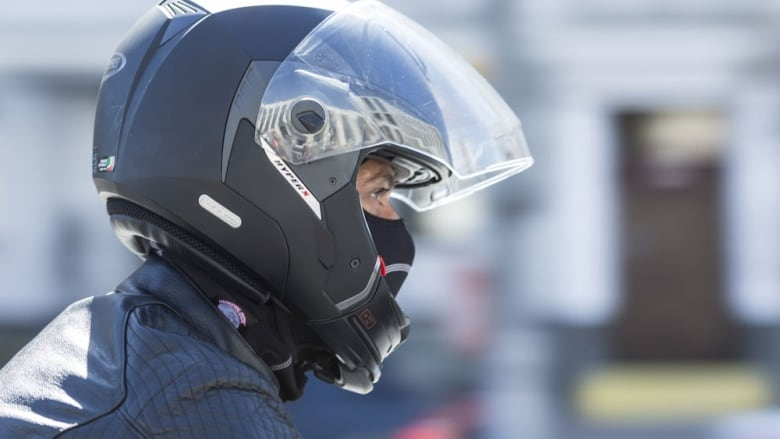with_helmet: (89, 2, 539, 397)
